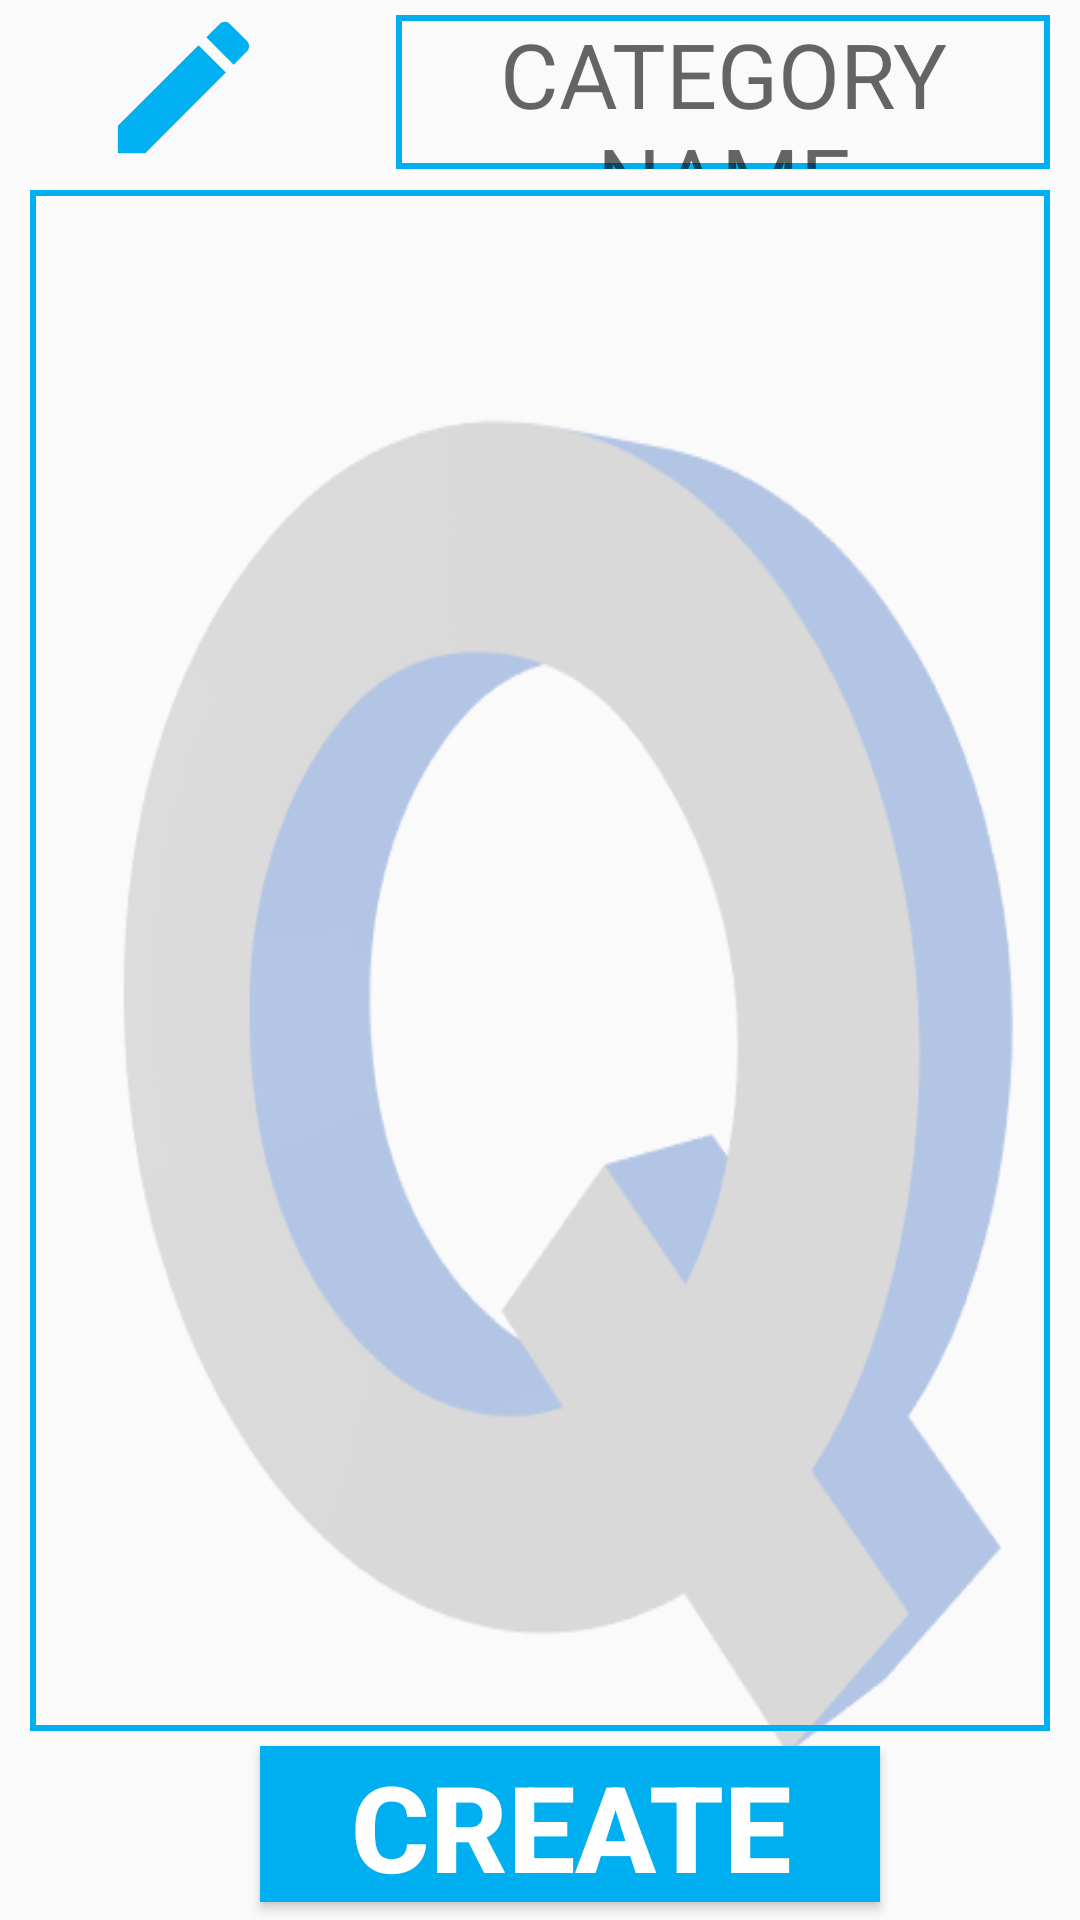

Where to tap for icons on this 1080px x 1920px app screen, as (x=x, y=y):
create: (x=183, y=87)
